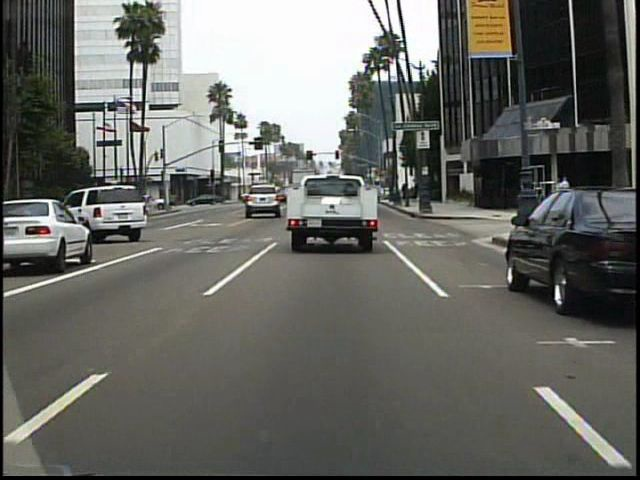person: (558, 172, 574, 213), (164, 189, 177, 214)
